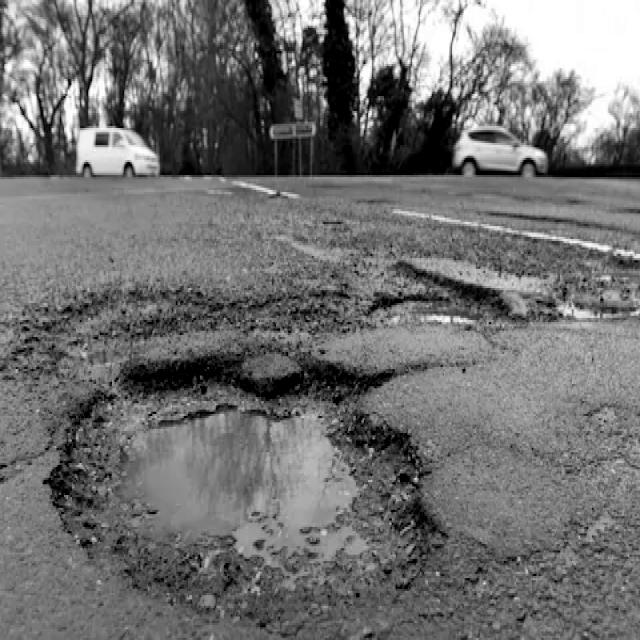pathole: (45, 178, 599, 637)
